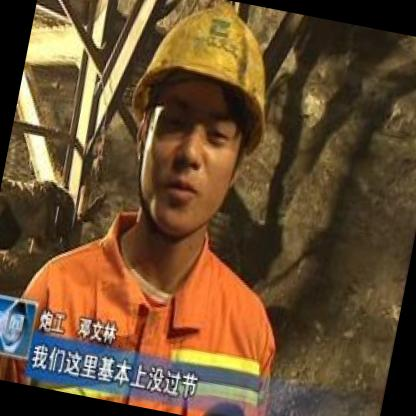helmet: (86, 0, 300, 271)
